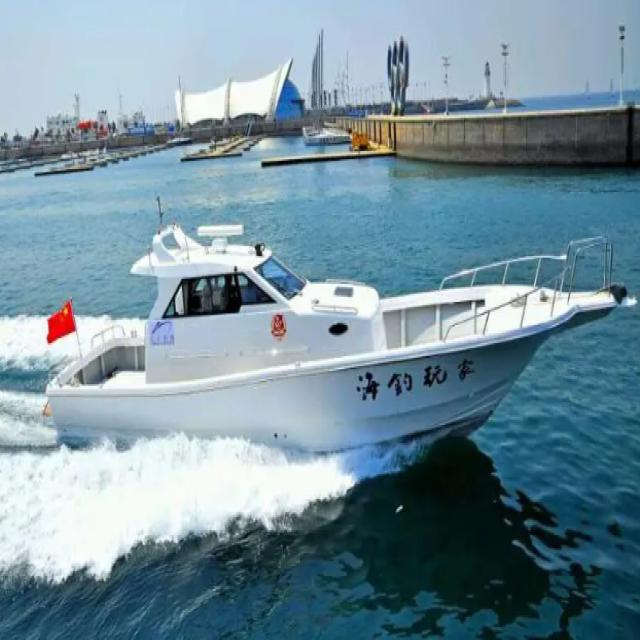houseboat: (35, 205, 640, 451)
